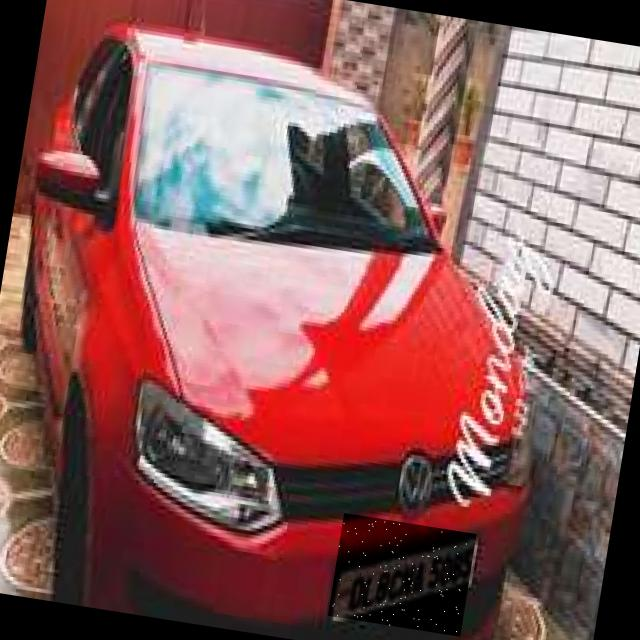Plate: (329, 514, 478, 638)
